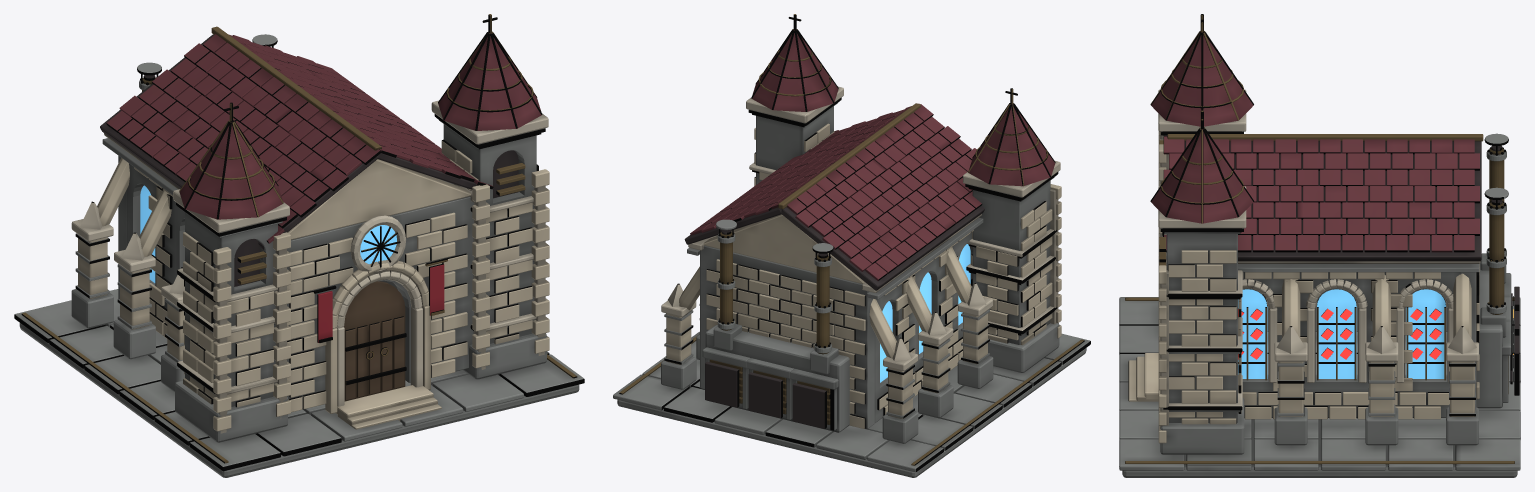
The picture shows the model from 3 angles, left to right: view 1: azimuth 30°, elevation 25°; view 2: azimuth 150°, elevation 25°; view 3: azimuth 270°, elevation 25°; orthographic projection. The views are drawn at different scales.
Visible parts, largest first — view 1: Sororitas Convent | complete authored assembly; view 2: Sororitas Convent | complete authored assembly; view 3: Sororitas Convent | complete authored assembly.
Part boxes in pixels (box(x1,y1,x2,y2)): Sororitas Convent | complete authored assembly: box(14, 14, 584, 477); Sororitas Convent | complete authored assembly: box(613, 14, 1090, 477); Sororitas Convent | complete authored assembly: box(1119, 14, 1520, 477).
Bounding box in the file's own units: 5.97 × 5.67 × 5.97.
1 material, 1 textured.
